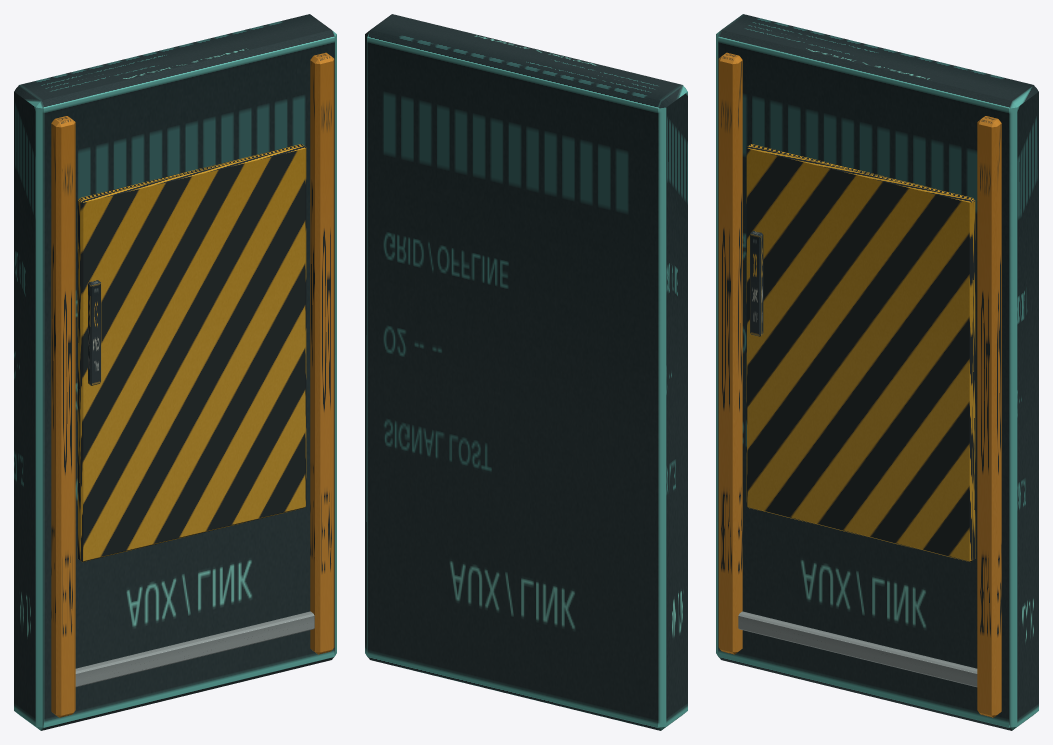
The model's file is wall_solid_2m_LOD1.obj.
3 renders of one model, left to right at view 1: azimuth 30°, elevation 25°; view 2: azimuth 150°, elevation 25°; view 3: azimuth 330°, elevation 25°, orthographic.
Visible parts, largest first — view 1: L02_wall_solid_2m_LOD1; view 2: L02_wall_solid_2m_LOD1; view 3: L02_wall_solid_2m_LOD1.
Boxes of the visible parts, <box> form: L02_wall_solid_2m_LOD1: <box>14,14,336,730</box>; L02_wall_solid_2m_LOD1: <box>365,14,687,730</box>; L02_wall_solid_2m_LOD1: <box>716,14,1038,730</box>.
Bounding box in the file's own units: 2 × 4 × 0.41.
1 material, 1 textured.
